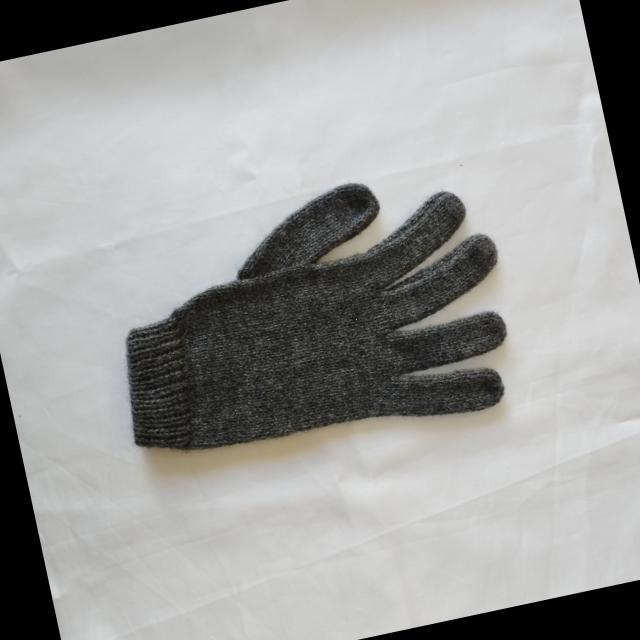Guante: (90, 154, 530, 483)
